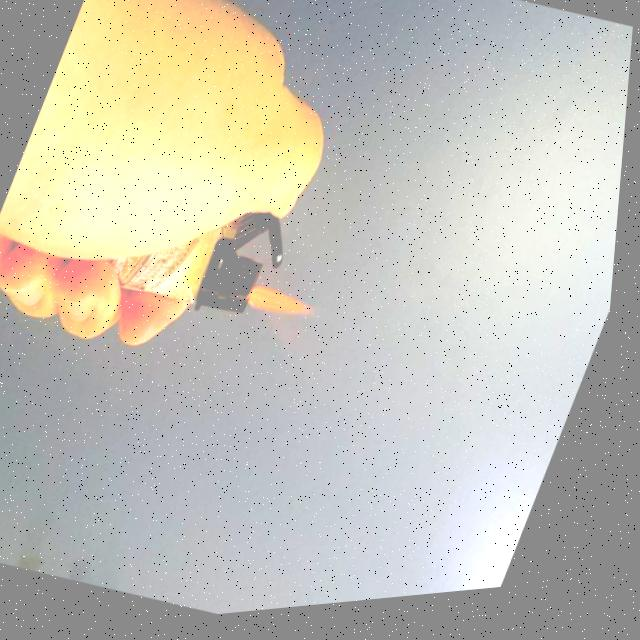Fire: (248, 280, 331, 338)
